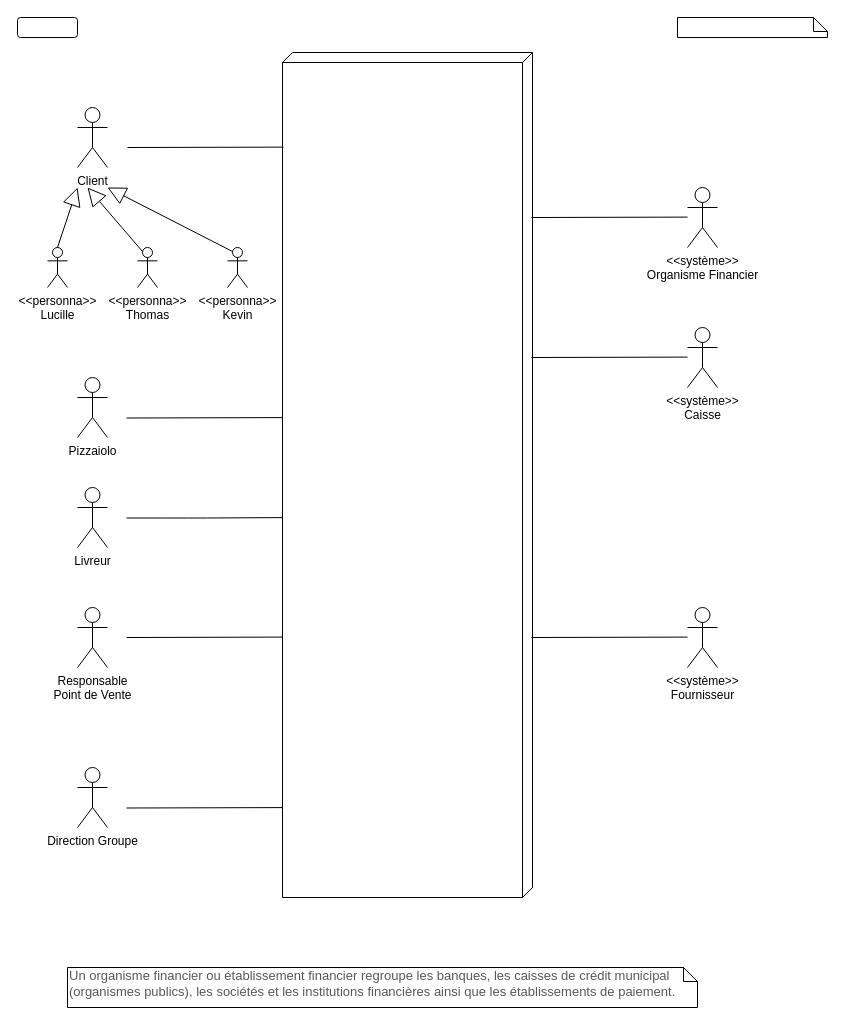
Some shapes in this 845 by 1025 pixel diagram are drawn without their labels. Here are the shapes that lost their labels. From the top down, the centre of each, then its label:
(47,27): OC'Pizza
(752,27): Diagramme de Contexte
(407,475): Système
